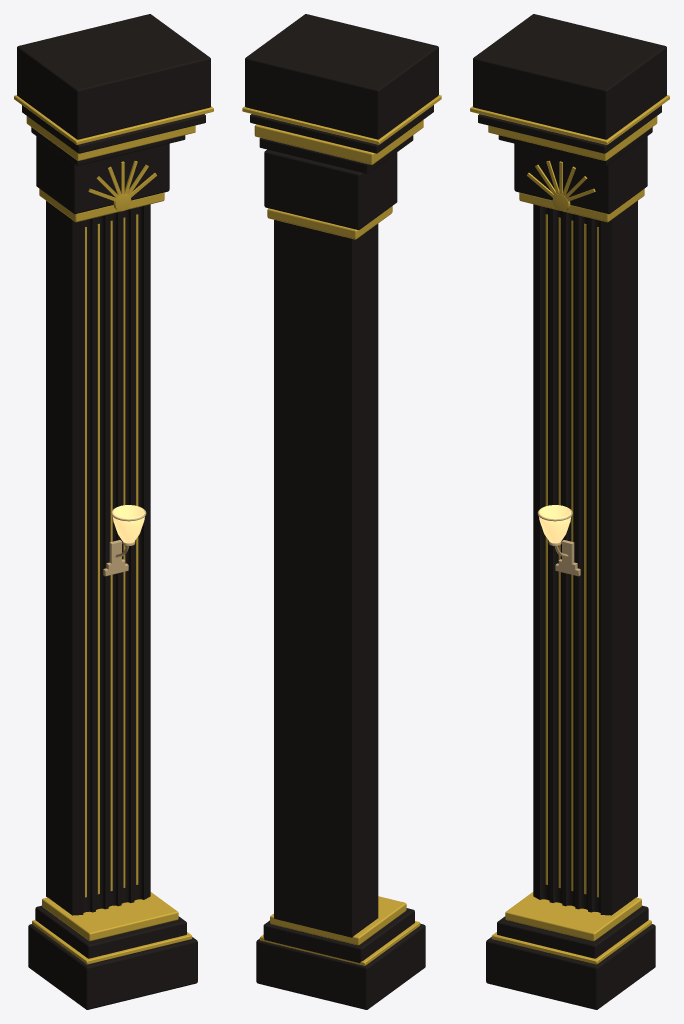
The model's file is pilaster.glb.
3 views of the same model, side by side, from view 1: azimuth 30°, elevation 25°; view 2: azimuth 150°, elevation 25°; view 3: azimuth 330°, elevation 25° (orthographic).
Visible parts, largest first — view 1: pilaster_marble, pilaster_gold, pilaster_sconceGlass, pilaster_brass; view 2: pilaster_marble, pilaster_gold; view 3: pilaster_marble, pilaster_gold, pilaster_sconceGlass, pilaster_brass.
Boxes of the visible parts, x1,y1,x2,y2 form: pilaster_marble: [17, 14, 210, 1009]; pilaster_gold: [14, 95, 213, 964]; pilaster_sconceGlass: [112, 505, 144, 543]; pilaster_brass: [103, 507, 146, 576]; pilaster_marble: [245, 14, 438, 1009]; pilaster_gold: [242, 95, 441, 965]; pilaster_marble: [473, 14, 666, 1009]; pilaster_gold: [470, 95, 669, 964]; pilaster_sconceGlass: [539, 505, 571, 543]; pilaster_brass: [537, 507, 580, 576].
Bounding box in the file's own units: 0.8601 × 5.52 × 0.68.
